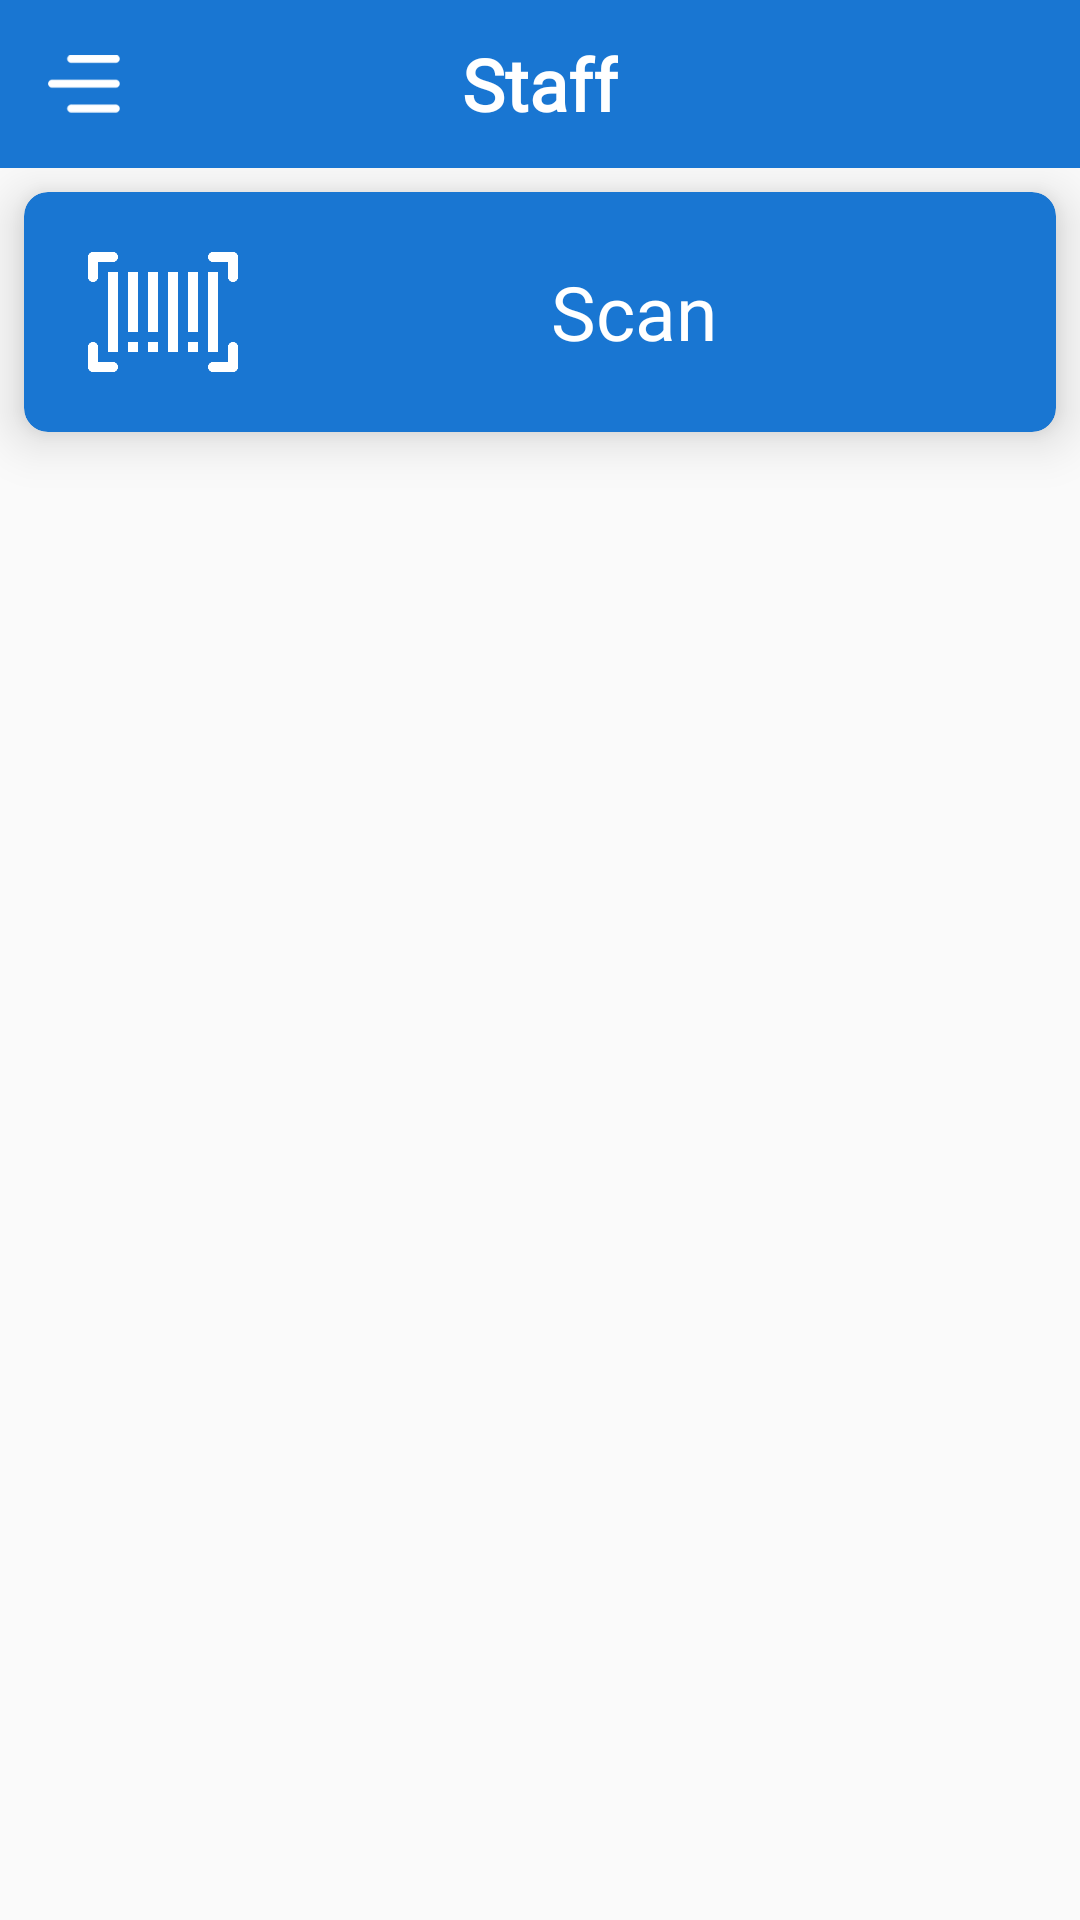

Icon bounding boxes for this 1080 x 1920 phone screenshot, format (x1, y1, x2, y2):
menu: (48, 55, 120, 113)
